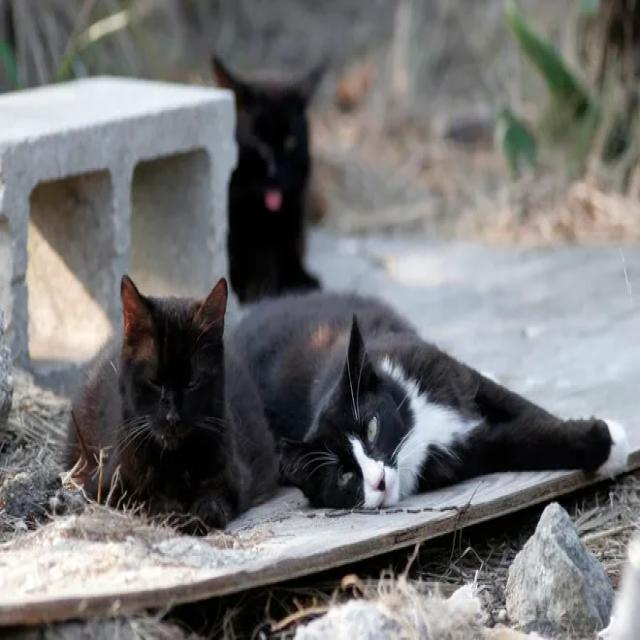cat: (234, 293, 626, 508), (64, 276, 279, 528), (212, 57, 325, 301)
